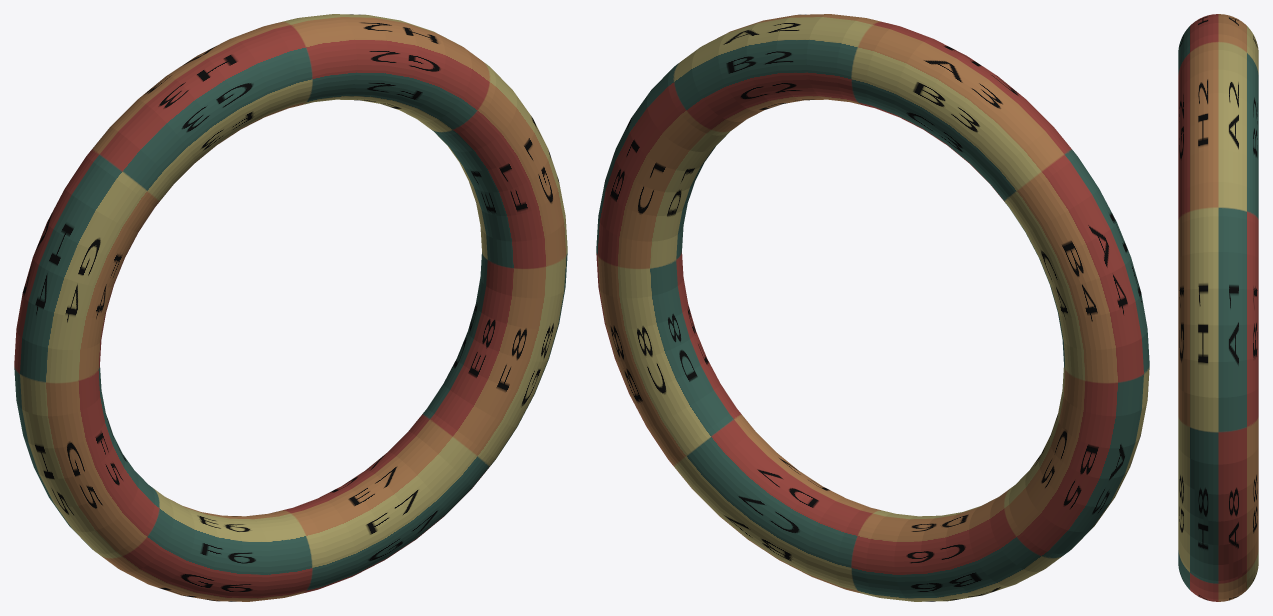
Rendered from texture_torus_R19_r6.glb.
3 renders of one model, left to right at view 1: azimuth 30°, elevation 25°; view 2: azimuth 150°, elevation 25°; view 3: azimuth 270°, elevation 25°, orthographic. The views are drawn at different scales.
Visible parts, largest first — view 1: world; view 2: world; view 3: world.
Boxes of the visible parts, x1,y1,x2,y2 form: world: (14,14,567,601); world: (596,14,1149,601); world: (1178,14,1258,601).
Size of the model in its own units: 26.27 by 26.21 by 3.59.
1 material, 1 textured.
